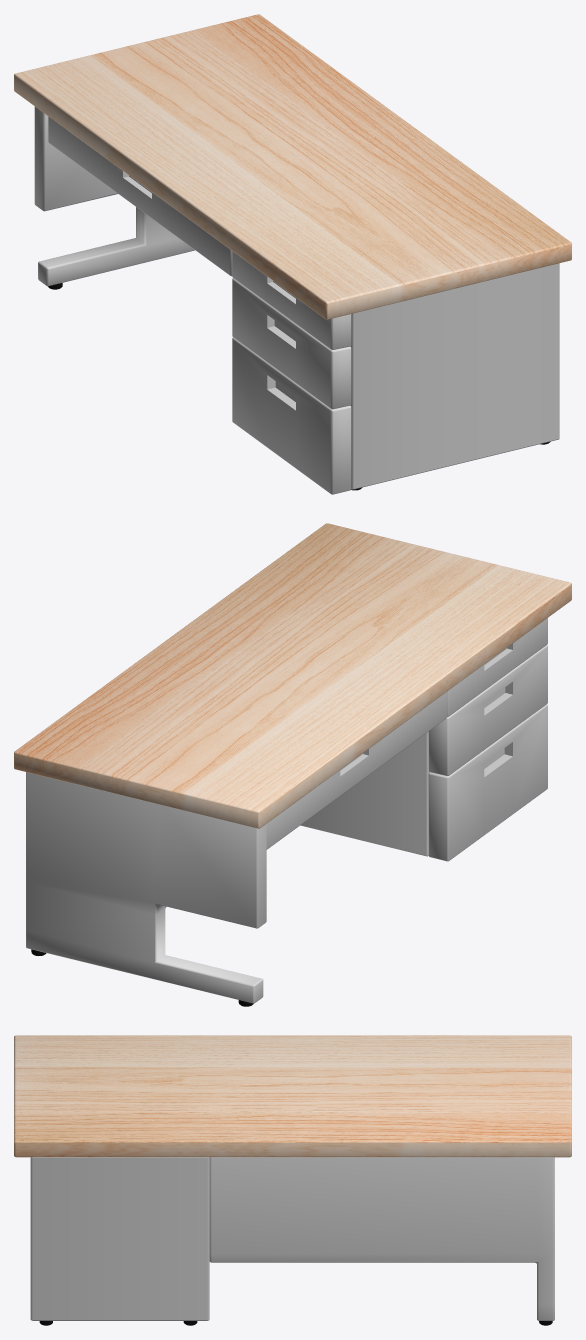
The model's file is 막힌책상 흰버전.fbx.
The picture shows the model from 3 angles, top to bottom: view 1: azimuth 30°, elevation 25°; view 2: azimuth 150°, elevation 25°; view 3: azimuth 270°, elevation 25°; orthographic projection. The views are drawn at different scales.
Visible parts, largest first — view 1: Object001, Object004, Object009, Box001, Object010, Object012, Object008; view 2: Object001, Box001, Object009, Object004, Object010, Object012, Object008; view 3: Object001, Box001, Object004.
Boxes of the visible parts, x1,y1,x2,y2 form: Object001: [14, 14, 571, 319]; Object004: [350, 263, 559, 489]; Object009: [232, 337, 351, 494]; Box001: [34, 106, 194, 286]; Object010: [232, 278, 351, 409]; Object012: [48, 116, 232, 276]; Object008: [232, 251, 351, 349]; Object001: [14, 523, 571, 828]; Box001: [26, 772, 266, 1003]; Object009: [428, 704, 547, 861]; Object004: [300, 731, 429, 856]; Object010: [428, 645, 547, 775]; Object012: [266, 691, 447, 849]; Object008: [447, 618, 547, 716]; Object001: [14, 1035, 571, 1157]; Box001: [209, 1157, 554, 1320]; Object004: [30, 1157, 209, 1320].
Bounding box in the file's own units: 83.14 × 67.64 × 183.
